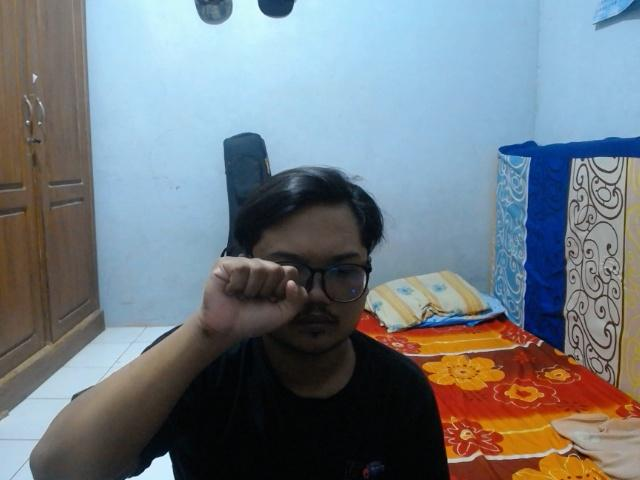Grab: (197, 250, 312, 347)
